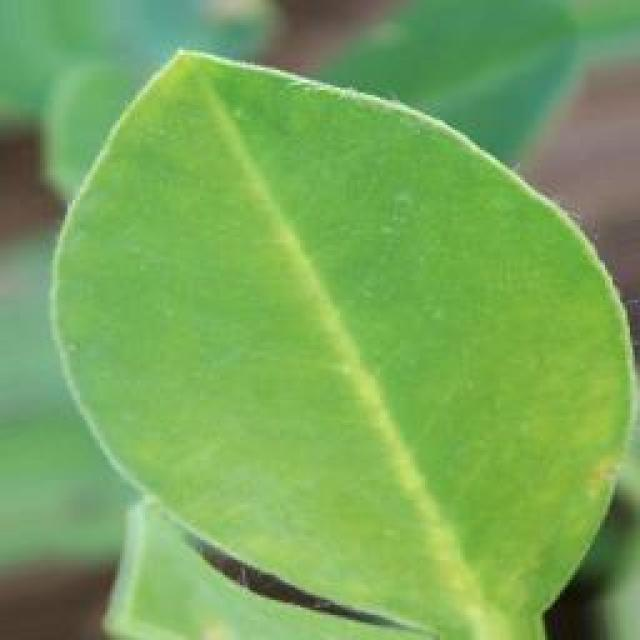Yellow_and_black_sigatoka: (60, 51, 640, 633)
